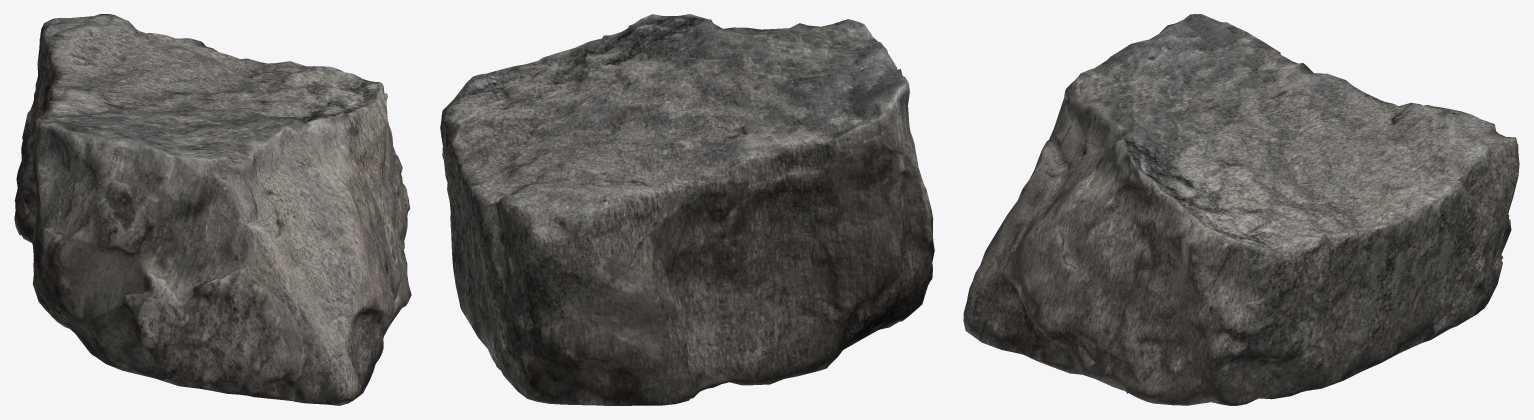
File: namaqualand_boulder_03.gltf
3 views of the same model, side by side, from view 1: azimuth 30°, elevation 25°; view 2: azimuth 150°, elevation 25°; view 3: azimuth 270°, elevation 25° (orthographic). The views are drawn at different scales.
Parts seen in each view (by area): view 1: boulder_03_LOD0; view 2: boulder_03_LOD0; view 3: boulder_03_LOD0.
Boxes of the visible parts, x1,y1,x2,y2 form: boulder_03_LOD0: (14, 14, 411, 405); boulder_03_LOD0: (440, 14, 934, 405); boulder_03_LOD0: (963, 14, 1519, 405).
Size of the model in its own units: 2.4 by 1.47 by 3.07.
Materials: 1 (1 with a texture image).
